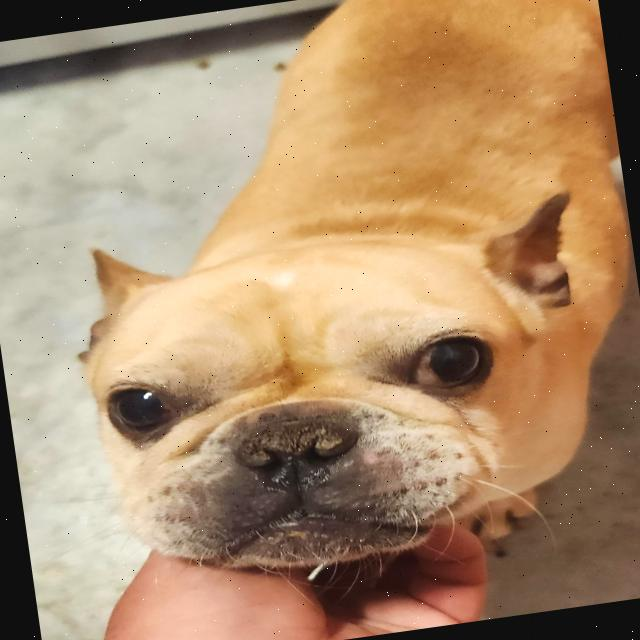french_bulldog_dog: (24, 170, 637, 624)
